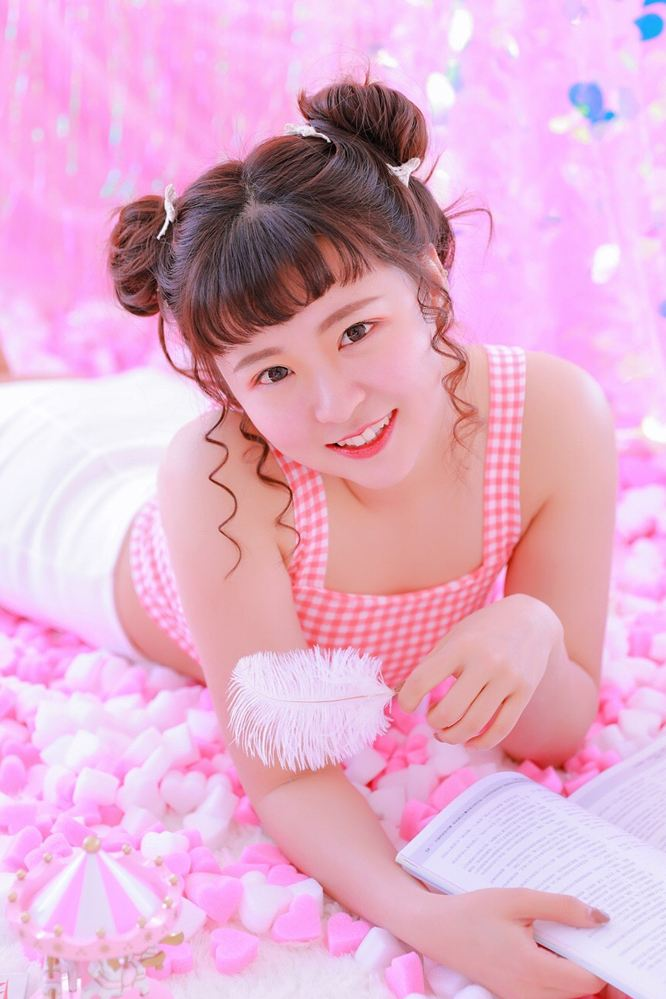person: (82, 79, 603, 894)
